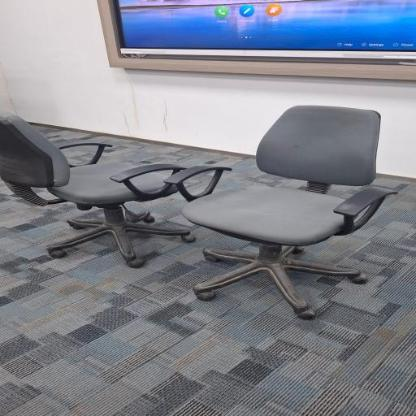chair: (171, 98, 400, 322), (0, 98, 197, 271)
